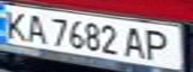2: (100, 21, 124, 56)
6: (66, 18, 84, 51)
7: (45, 16, 69, 47)
8: (81, 20, 103, 53)
A: (121, 25, 148, 61), (21, 11, 48, 44)
K: (0, 8, 30, 41)
P: (139, 27, 178, 62)
